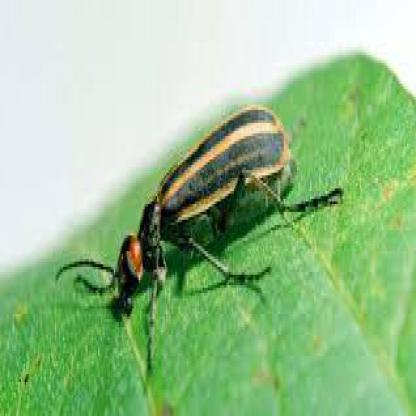blister beetle: (57, 106, 341, 366)
